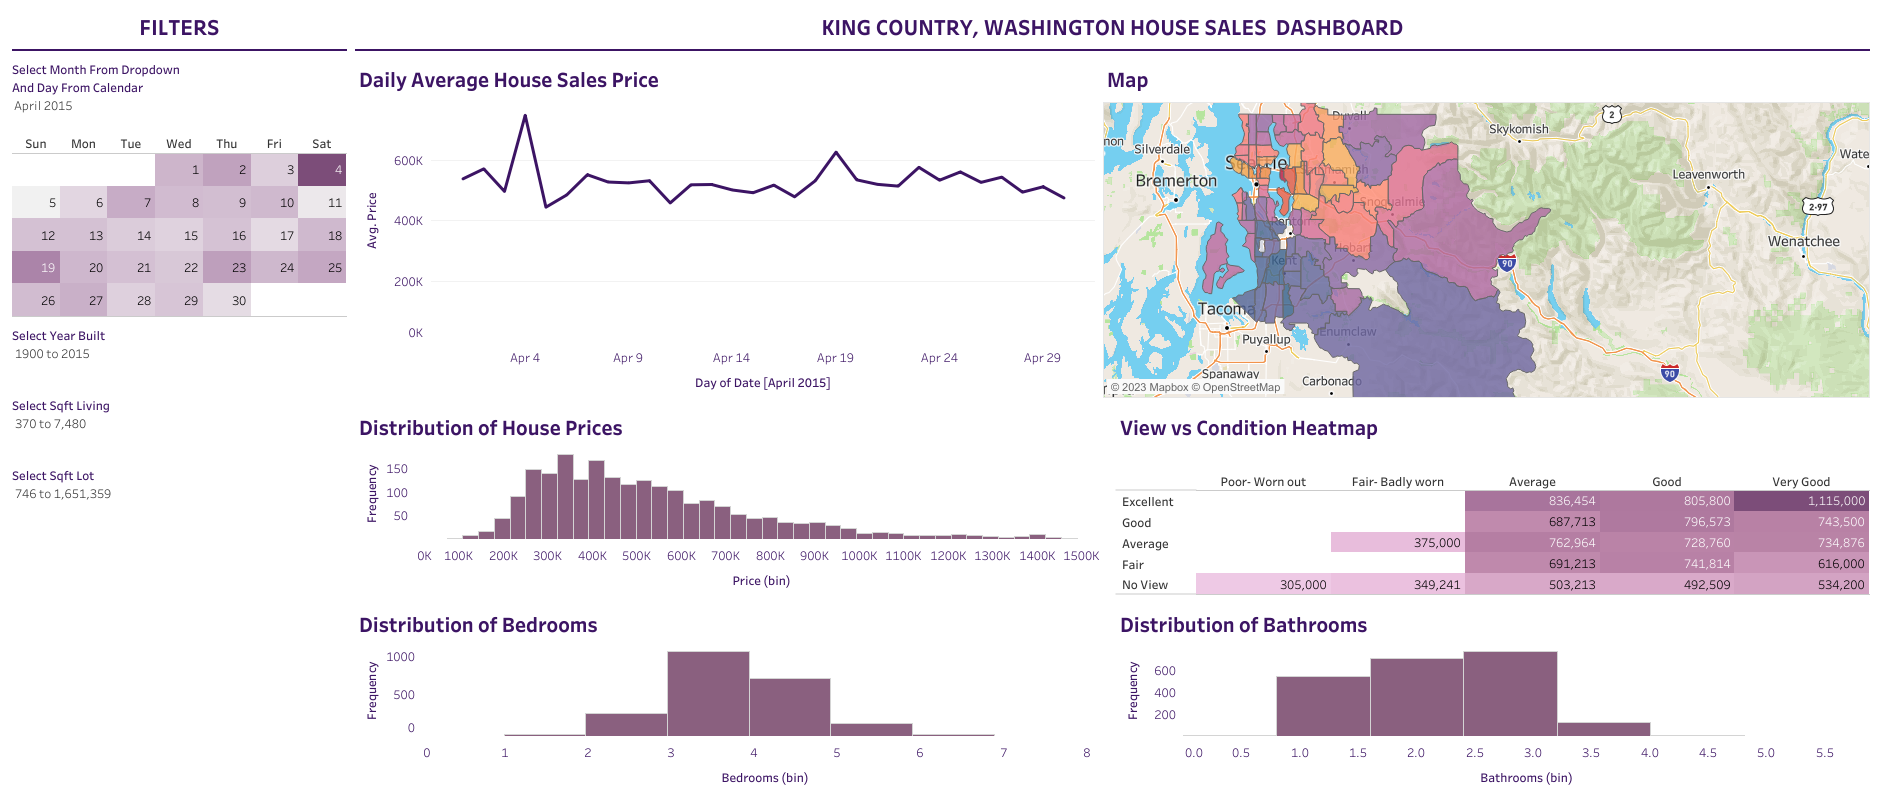

This screenshot's page, from the dashboard's own definition file:
{"tool":"tableau","page":{"name":"King Country House Sales","canvas":[1000,1000],"units":"permille","ordinal":0},"visuals":[{"type":"text","box":[5.9,9.2,181.5,42.5]},{"type":"text","box":[187.4,9.2,806.8,42.5]},{"type":"blank","box":[5.9,51.7,181.5,11.5]},{"type":"blank","box":[187.4,51.7,806.8,11.5]},{"type":"filter","title":"Calendar","param":"[federated.1e15sam0cqmt8u1b8wvlo0yuix07].[my:date:ok]","box":[5.9,63.1,181.5,79.2]},{"type":"worksheet","title":"Line Chart","mark":"Automatic","rows":["price"],"cols":["date"],"box":[187.4,63.1,393.1,436.9]},{"type":"worksheet","title":"Map","mark":"Automatic","box":[580.5,63.1,413.6,436.9]},{"type":"worksheet","title":"Calendar","mark":"Square","rows":["date"],"cols":["date"],"box":[5.9,142.3,181.5,220.4]},{"type":"filter","title":"Calendar","param":"[federated.1e15sam0cqmt8u1b8wvlo0yuix07].[none:yr_built:qk]","box":[5.9,362.8,181.5,79.2]},{"type":"filter","title":"Calendar","param":"[federated.1e15sam0cqmt8u1b8wvlo0yuix07].[none:sqft_living:qk]","box":[5.9,442,181.5,79.2]},{"type":"worksheet","title":"Histogram House Prices","mark":"Automatic","rows":["price"],"cols":["Price (bin)"],"box":[187.4,500,403.4,245.4]},{"type":"worksheet","title":"Heatmap","mark":"Square","rows":["view"],"cols":["condition"],"box":[590.8,500,403.4,245.4]},{"type":"filter","title":"Calendar","param":"[federated.1e15sam0cqmt8u1b8wvlo0yuix07].[none:sqft_lot:qk]","box":[5.9,521.2,181.5,79.2]},{"type":"worksheet","title":"Histogram Bedrooms","mark":"Automatic","rows":["bedrooms"],"cols":["Bedrooms (bin)"],"box":[187.4,745.4,403.4,245.4]},{"type":"worksheet","title":"Histogram Bathrooms","mark":"Automatic","rows":["bathrooms"],"cols":["Bathrooms (bin)"],"box":[590.8,745.4,403.4,245.4]}]}

Visuals, with their boxes on the dashboard's canvas, which has no fixed pixel size, in thousandths of its width and height (x1, y1, x2, y2). These are canvas units, not pixel positions in the 1881x804 screenshot, which may show the page scaled, cropped or inside an application window:
text: [6,9,187,52]
text: [187,9,994,52]
blank: [6,52,187,63]
blank: [187,52,994,63]
"Calendar" filter: [6,63,187,142]
"Line Chart" worksheet: [187,63,580,500]
"Map" worksheet: [580,63,994,500]
"Calendar" worksheet (Square marks): [6,142,187,363]
"Calendar" filter: [6,363,187,442]
"Calendar" filter: [6,442,187,521]
"Histogram House Prices" worksheet: [187,500,591,745]
"Heatmap" worksheet (Square marks): [591,500,994,745]
"Calendar" filter: [6,521,187,600]
"Histogram Bedrooms" worksheet: [187,745,591,991]
"Histogram Bathrooms" worksheet: [591,745,994,991]
